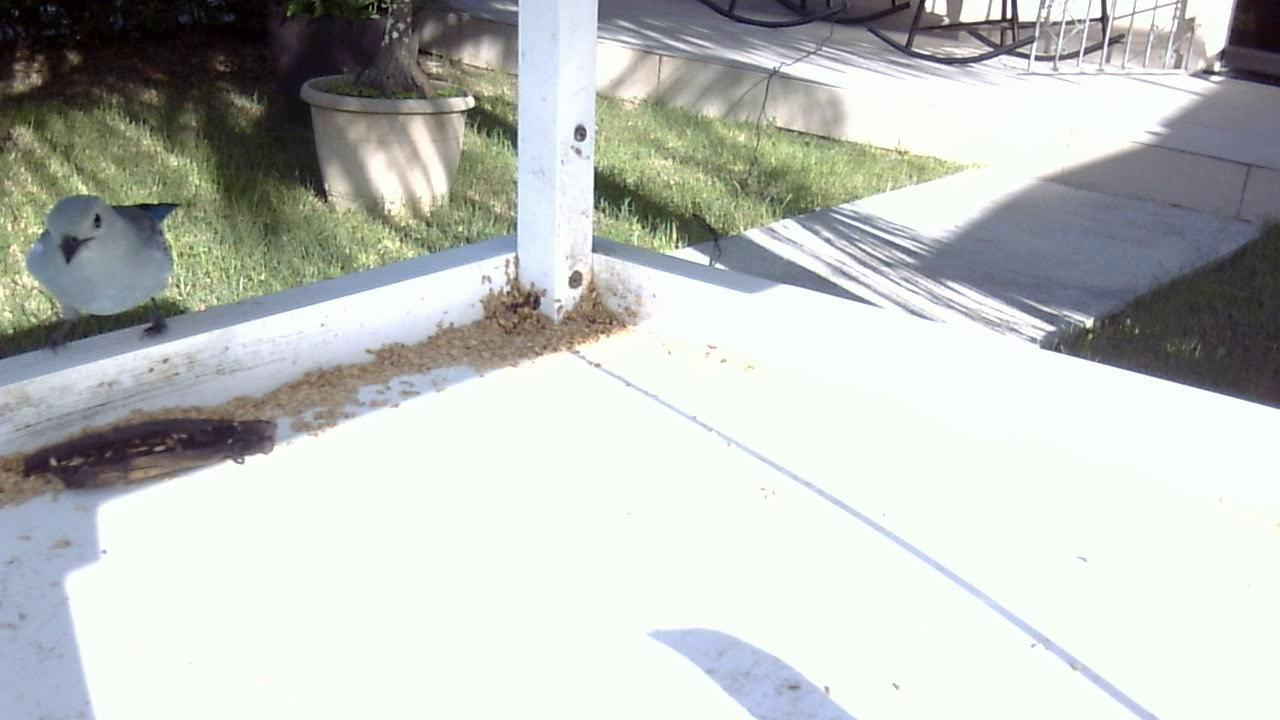sanhaco_da_amazonia: (20, 185, 193, 354)
